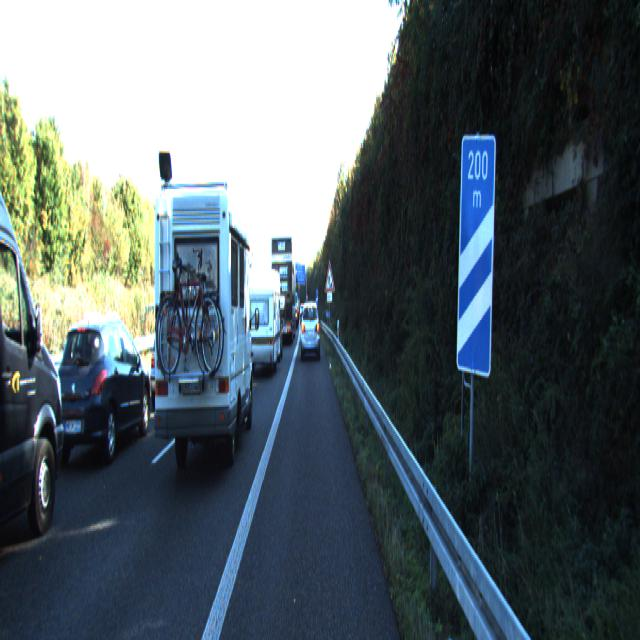Car: (152, 185, 256, 484), (0, 156, 69, 576), (50, 316, 152, 472), (244, 263, 280, 377), (272, 233, 296, 342), (300, 299, 320, 358)
